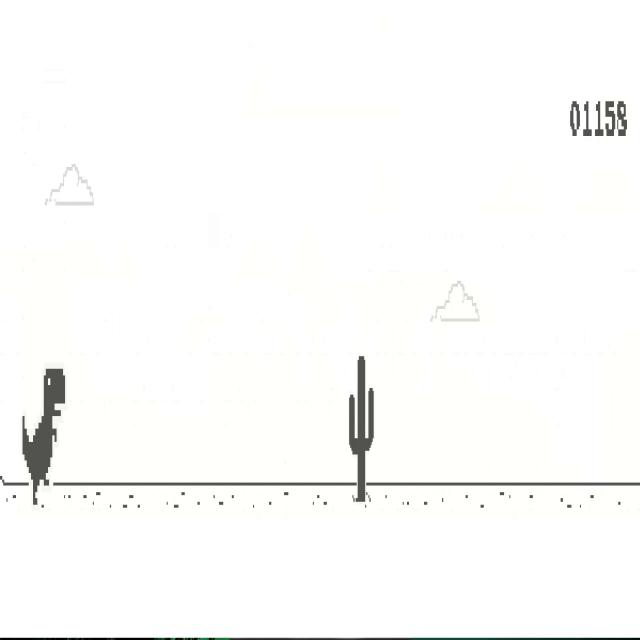cacto: (348, 354, 374, 503)
dino: (22, 368, 66, 507)
